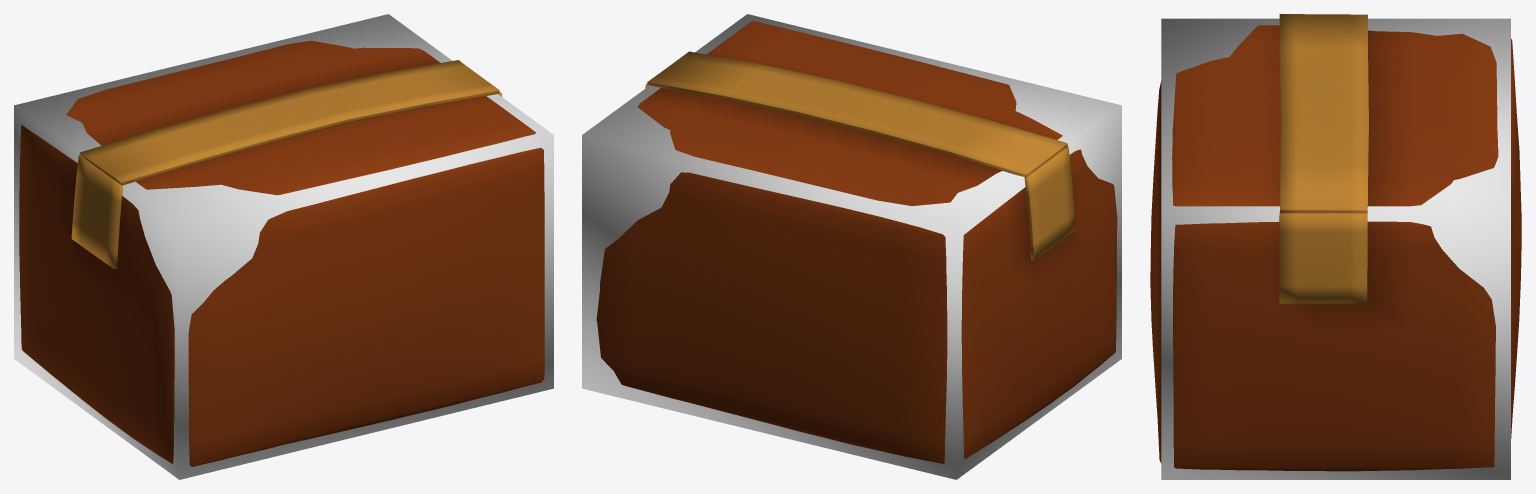
File: caja_carton_pequena.glb
The picture shows the model from 3 angles, left to right: view 1: azimuth 30°, elevation 25°; view 2: azimuth 150°, elevation 25°; view 3: azimuth 270°, elevation 25°; orthographic projection. The views are drawn at different scales.
Visible parts, largest first — view 1: caja, caja_carton_pequena-colcaja, cinta_0, cinta_2; view 2: caja, caja_carton_pequena-colcaja, cinta_0, cinta_2; view 3: caja, caja_carton_pequena-colcaja, cinta_0, cinta_1.
Boxes of the visible parts, x1,y1,x2,y2 form: caja: (19, 40, 544, 466); caja_carton_pequena-colcaja: (14, 14, 553, 479); cinta_0: (79, 60, 499, 185); cinta_2: (71, 155, 122, 268); caja: (596, 21, 1117, 463); caja_carton_pequena-colcaja: (582, 14, 1121, 479); cinta_0: (647, 51, 1067, 177); cinta_2: (1024, 146, 1074, 260); caja: (1150, 25, 1521, 471); caja_carton_pequena-colcaja: (1161, 18, 1510, 479); cinta_0: (1279, 14, 1368, 213); cinta_1: (1279, 212, 1367, 303).
Bounding box in the file's own units: 0.3598 × 0.2357 × 0.2762.
